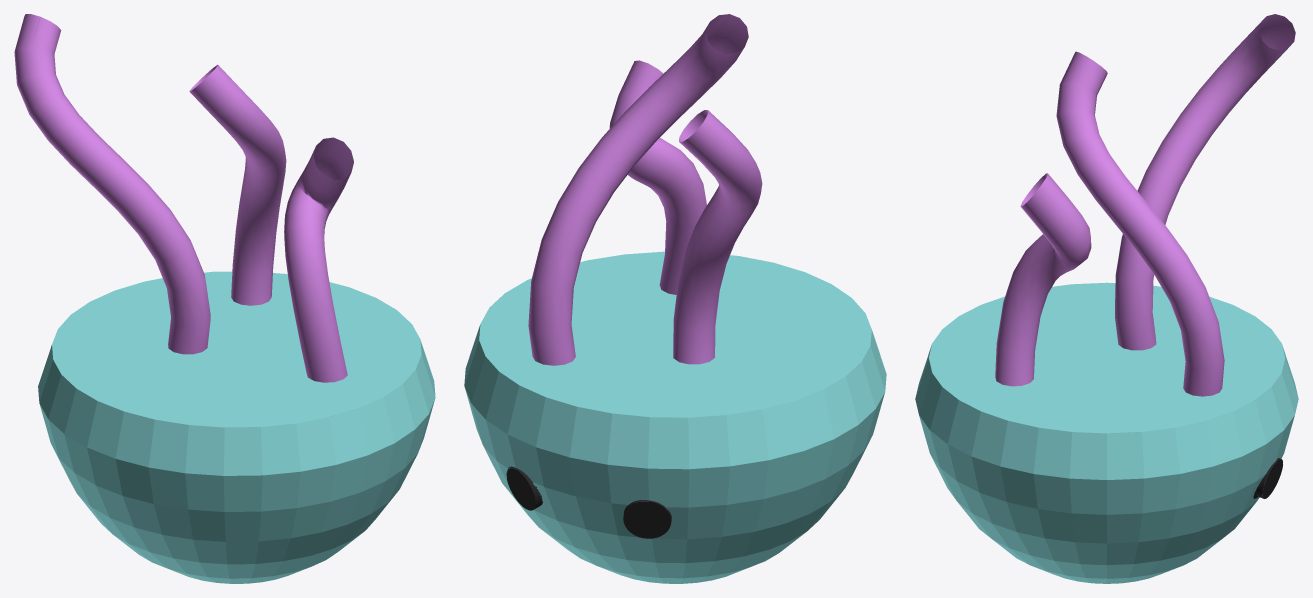
File: Jellyfish.fbx
The picture shows the model from 3 angles, left to right: view 1: azimuth 30°, elevation 25°; view 2: azimuth 150°, elevation 25°; view 3: azimuth 270°, elevation 25°; orthographic projection. The views are drawn at different scales.
Visible parts, largest first — view 1: Sphere; view 2: Sphere; view 3: Sphere.
Part boxes in pixels (bbox=[...]): Sphere: bbox=[14, 14, 435, 583]; Sphere: bbox=[464, 14, 886, 583]; Sphere: bbox=[915, 14, 1298, 583].
Bounding box in the file's own units: 196 × 282 × 196.
